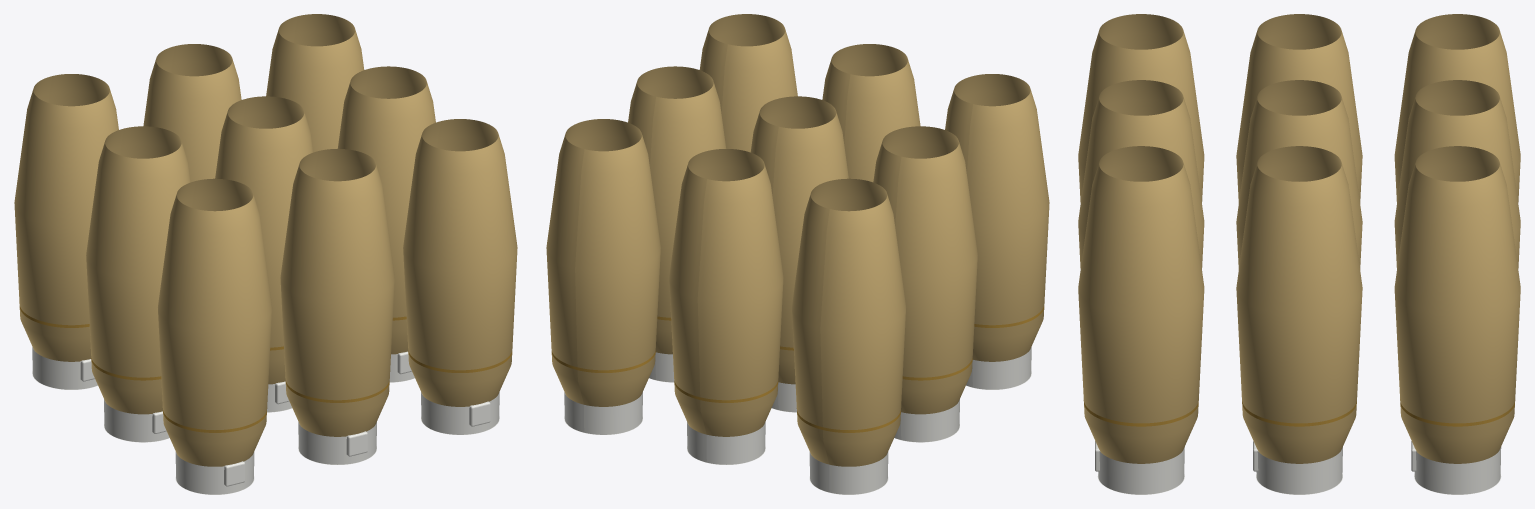
The model's file is amigos_mustard_200g.glb.
The picture shows the model from 3 angles, left to right: view 1: azimuth 30°, elevation 25°; view 2: azimuth 150°, elevation 25°; view 3: azimuth 270°, elevation 25°; orthographic projection. The views are drawn at different scales.
Parts seen in each view (by area): view 1: SQUEEZE | tapered flexible body | 2, SQUEEZE | tapered flexible body | 3, SQUEEZE | tapered flexible body, SQUEEZE | tapered flexible body | 4, SQUEEZE | tapered flexible body | 7, SQUEEZE | tapered flexible body | 5, SQUEEZE | tapered flexible body | 6, SQUEEZE | tapered flexible body | 8, SQUEEZE | tapered flexible body | 9, SQUEEZE | flip-top cap | 2, SQUEEZE | flip-top cap | 3, SQUEEZE | flip-top cap (+2 smaller); view 2: SQUEEZE | tapered flexible body | 8, SQUEEZE | tapered flexible body | 9, SQUEEZE | tapered flexible body | 7, SQUEEZE | tapered flexible body | 4, SQUEEZE | tapered flexible body, SQUEEZE | tapered flexible body | 5, SQUEEZE | tapered flexible body | 6, SQUEEZE | tapered flexible body | 2, SQUEEZE | tapered flexible body | 3, SQUEEZE | flip-top cap | 8, SQUEEZE | flip-top cap | 7, SQUEEZE | flip-top cap | 9 (+4 smaller); view 3: SQUEEZE | tapered flexible body | 9, SQUEEZE | tapered flexible body | 3, SQUEEZE | tapered flexible body | 6, SQUEEZE | tapered flexible body | 4, SQUEEZE | tapered flexible body, SQUEEZE | tapered flexible body | 5, SQUEEZE | tapered flexible body | 7, SQUEEZE | tapered flexible body | 2, SQUEEZE | tapered flexible body | 8, SQUEEZE | flip-top cap | 3, SQUEEZE | flip-top cap | 9, SQUEEZE | flip-top cap | 6.
Part boxes in pixels (<box>): SQUEEZE | tapered flexible body | 2: <box>280,149,394,436</box>; SQUEEZE | tapered flexible body | 3: <box>403,119,517,406</box>; SQUEEZE | tapered flexible body: <box>158,178,272,466</box>; SQUEEZE | tapered flexible body | 4: <box>86,126,190,414</box>; SQUEEZE | tapered flexible body | 7: <box>14,74,118,361</box>; SQUEEZE | tapered flexible body | 5: <box>215,96,313,384</box>; SQUEEZE | tapered flexible body | 6: <box>337,66,435,354</box>; SQUEEZE | tapered flexible body | 8: <box>143,44,241,182</box>; SQUEEZE | tapered flexible body | 9: <box>266,14,364,152</box>; SQUEEZE | flip-top cap | 2: <box>298,422,376,464</box>; SQUEEZE | flip-top cap | 3: <box>421,392,499,434</box>; SQUEEZE | flip-top cap: <box>175,452,254,494</box>; SQUEEZE | tapered flexible body | 8: <box>669,149,783,436</box>; SQUEEZE | tapered flexible body | 9: <box>546,119,660,406</box>; SQUEEZE | tapered flexible body | 7: <box>791,178,905,466</box>; SQUEEZE | tapered flexible body | 4: <box>873,126,977,414</box>; SQUEEZE | tapered flexible body: <box>945,74,1049,361</box>; SQUEEZE | tapered flexible body | 5: <box>750,96,848,384</box>; SQUEEZE | tapered flexible body | 6: <box>628,66,726,354</box>; SQUEEZE | tapered flexible body | 2: <box>822,44,920,182</box>; SQUEEZE | tapered flexible body | 3: <box>699,14,797,152</box>; SQUEEZE | flip-top cap | 8: <box>687,422,765,464</box>; SQUEEZE | flip-top cap | 7: <box>809,452,888,494</box>; SQUEEZE | flip-top cap | 9: <box>564,392,642,434</box>; SQUEEZE | tapered flexible body | 9: <box>1394,146,1520,463</box>; SQUEEZE | tapered flexible body | 3: <box>1078,146,1204,463</box>; SQUEEZE | tapered flexible body | 6: <box>1236,146,1362,463</box>; SQUEEZE | tapered flexible body | 4: <box>1236,14,1362,203</box>; SQUEEZE | tapered flexible body: <box>1078,14,1204,202</box>; SQUEEZE | tapered flexible body | 5: <box>1236,80,1362,269</box>; SQUEEZE | tapered flexible body | 7: <box>1394,14,1520,202</box>; SQUEEZE | tapered flexible body | 2: <box>1078,80,1204,268</box>; SQUEEZE | tapered flexible body | 8: <box>1394,80,1520,268</box>; SQUEEZE | flip-top cap | 3: <box>1098,446,1184,494</box>; SQUEEZE | flip-top cap | 9: <box>1414,447,1501,494</box>; SQUEEZE | flip-top cap | 6: <box>1256,447,1342,494</box>.
Size of the model in its own units: 0.2302 by 0.181 by 0.2322.
4 materials, 1 textured.
